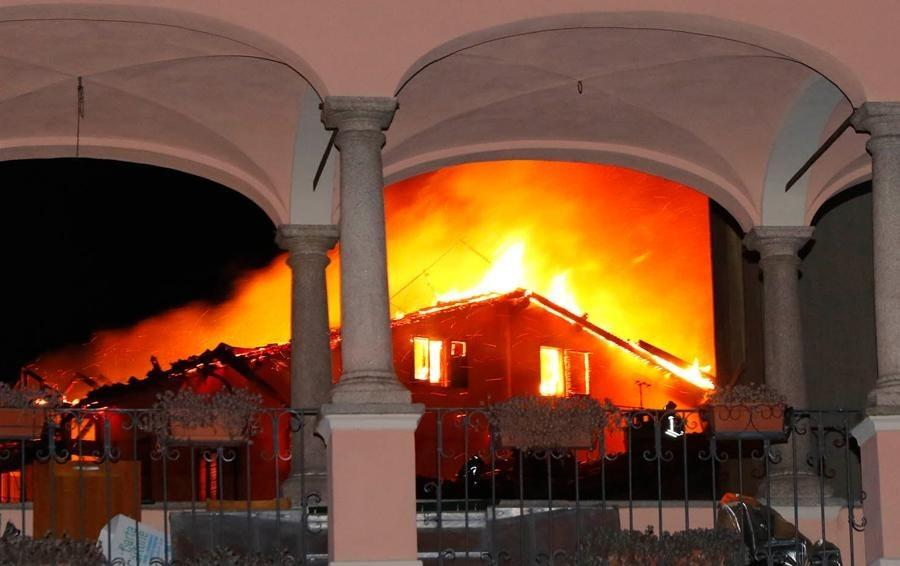Fire: (400, 235, 740, 411)
